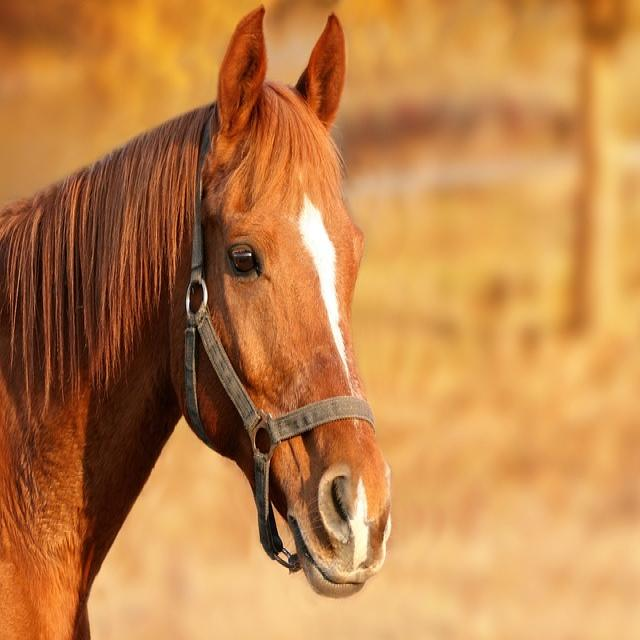Herbivorous: (0, 8, 393, 640)
